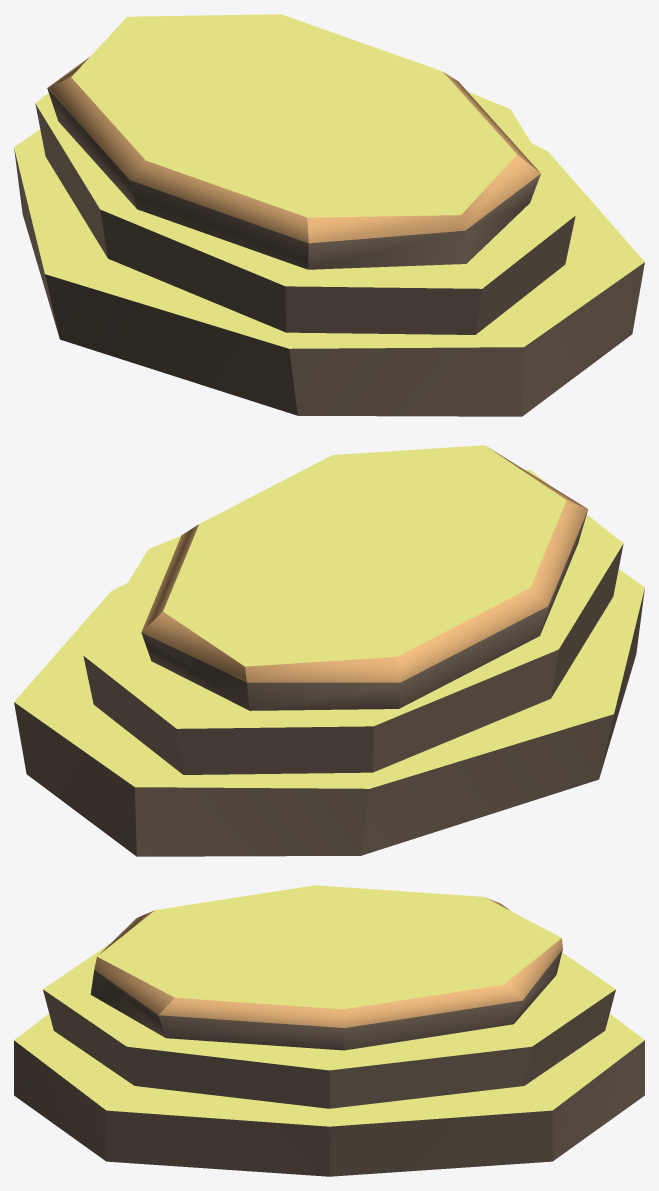
File: Rock_Shelf2.fbx
3 views of the same model, one above another, from view 1: azimuth 30°, elevation 25°; view 2: azimuth 150°, elevation 25°; view 3: azimuth 270°, elevation 25° (orthographic). The views are drawn at different scales.
Visible parts, largest first — view 1: Rock_Shelf2; view 2: Rock_Shelf2; view 3: Rock_Shelf2.
Part boxes in pixels (left/top/right/bottom): Rock_Shelf2: left=14, top=14, right=644, bottom=416; Rock_Shelf2: left=14, top=445, right=644, bottom=856; Rock_Shelf2: left=14, top=885, right=644, bottom=1176.
Size of what is drawn, in the model's own units: 5791 by 1831 by 7761.
